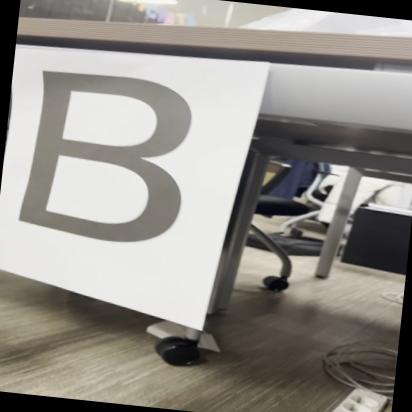seat: (0, 57, 215, 267)
